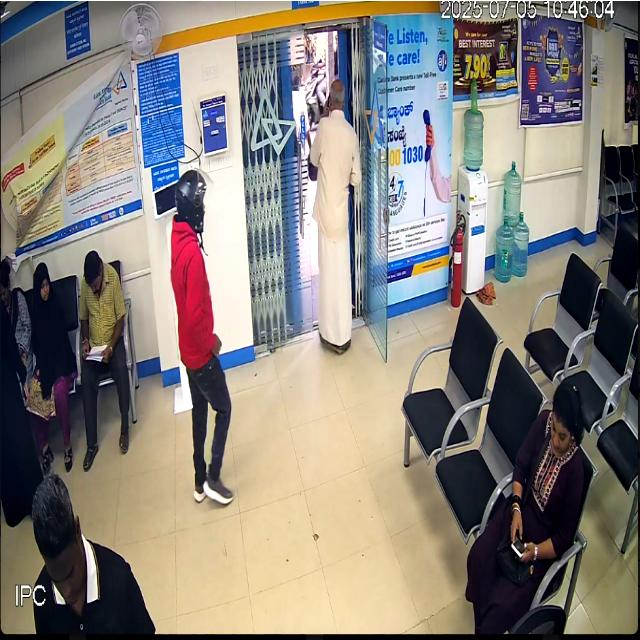helmet: (175, 168, 214, 233)
no_helmet: (31, 475, 85, 615), (550, 380, 584, 456), (84, 251, 103, 294), (32, 262, 51, 305), (330, 79, 345, 110)
